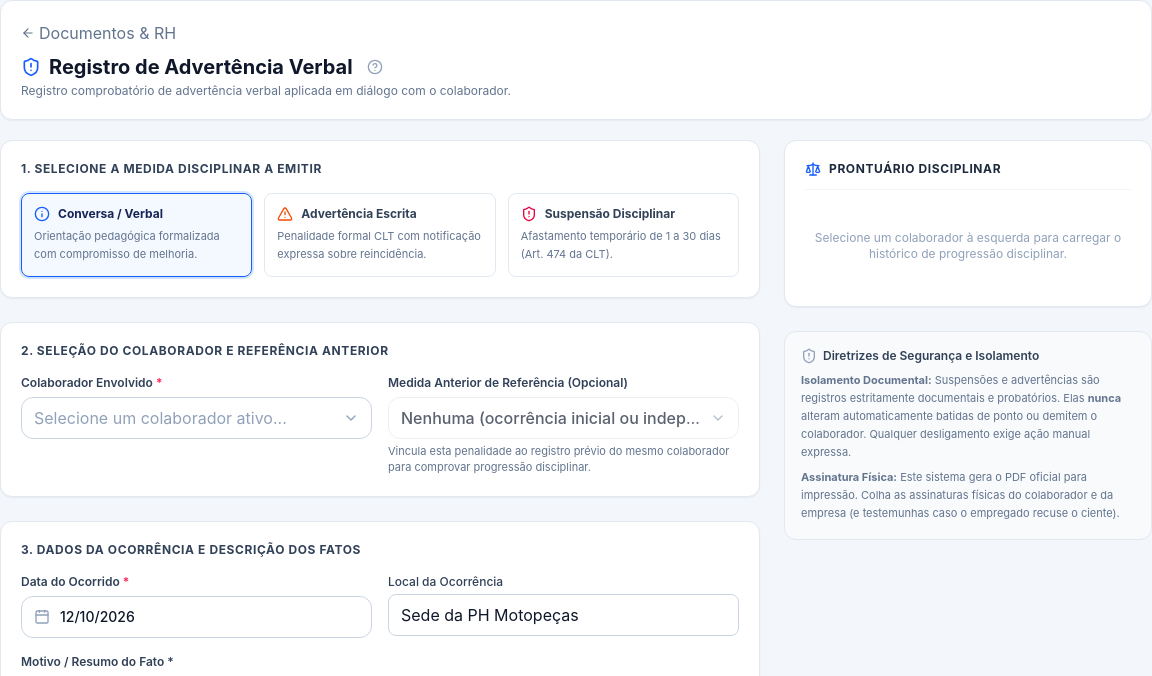
Scenario: DisciplineDocumentPage › loads and displays progression summary when an employee is selected
Click the dropdown named "Colaborador Envolvido": [196, 418] box [21,397,372,439]
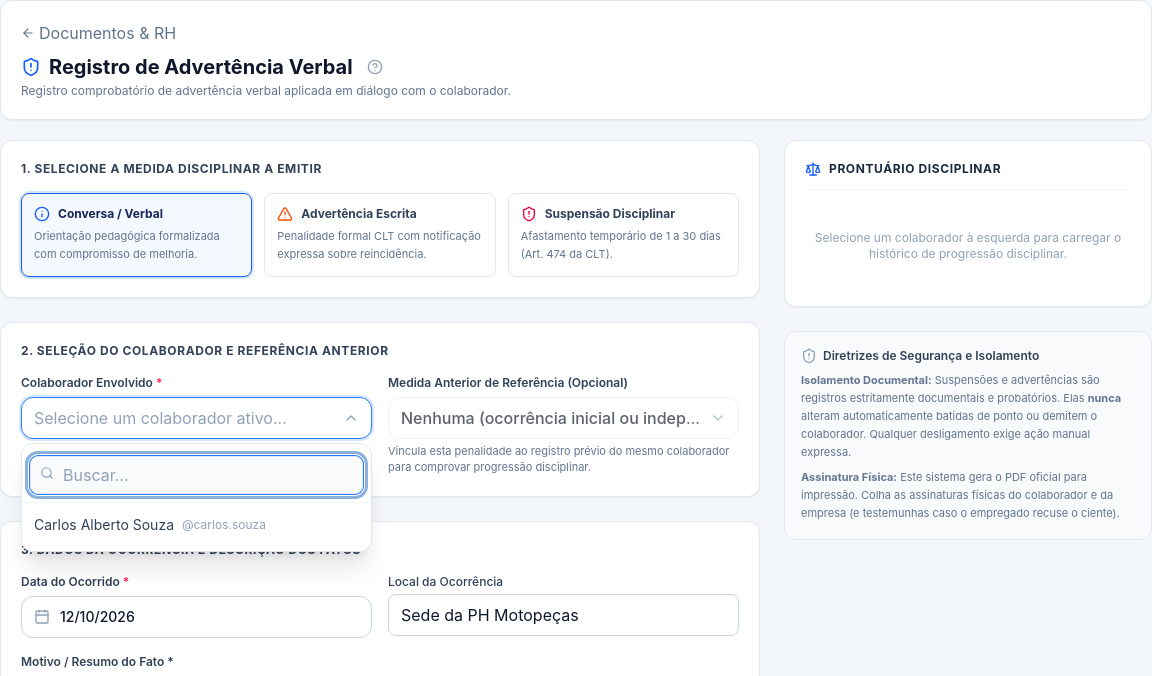
Click the option "Carlos Alberto Souza @carlos.souza": [150, 524] box [34,516,266,533]
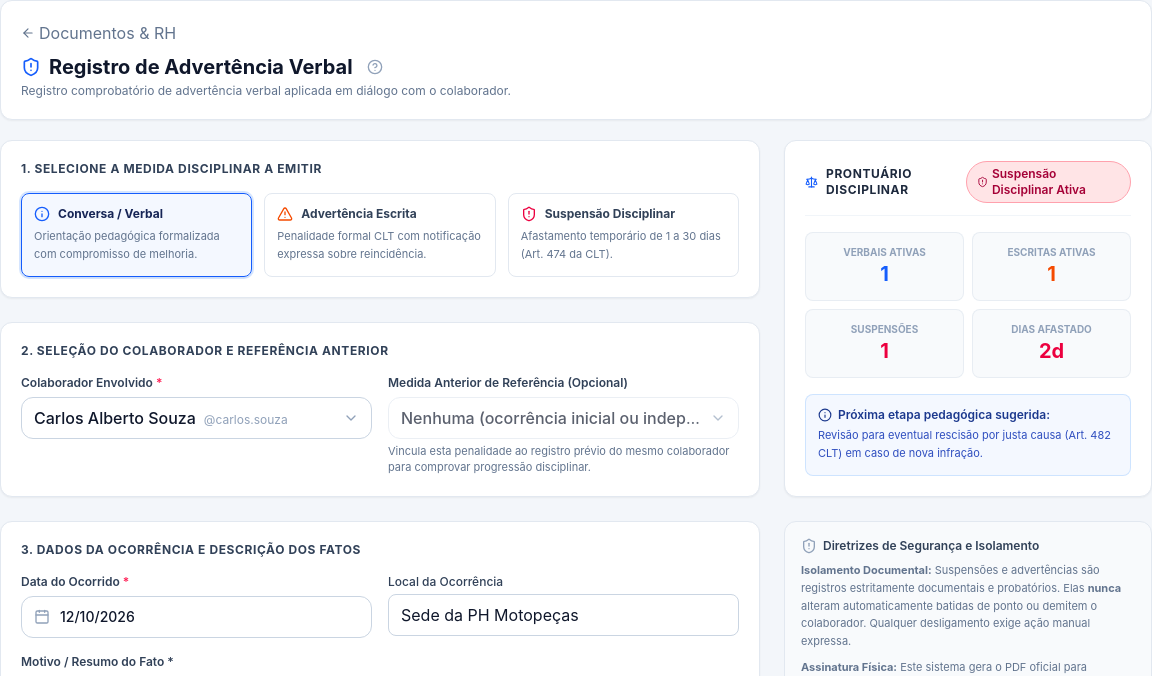
expect the heading "Prontuário Disciplinar" is shown: met, box [826,166,912,197]
expect the text "Suspensão Disciplinar Ativa" is shown: met, box [966,161,1131,203]
expect the text "2d" is shown: met, box [1039,339,1064,363]
